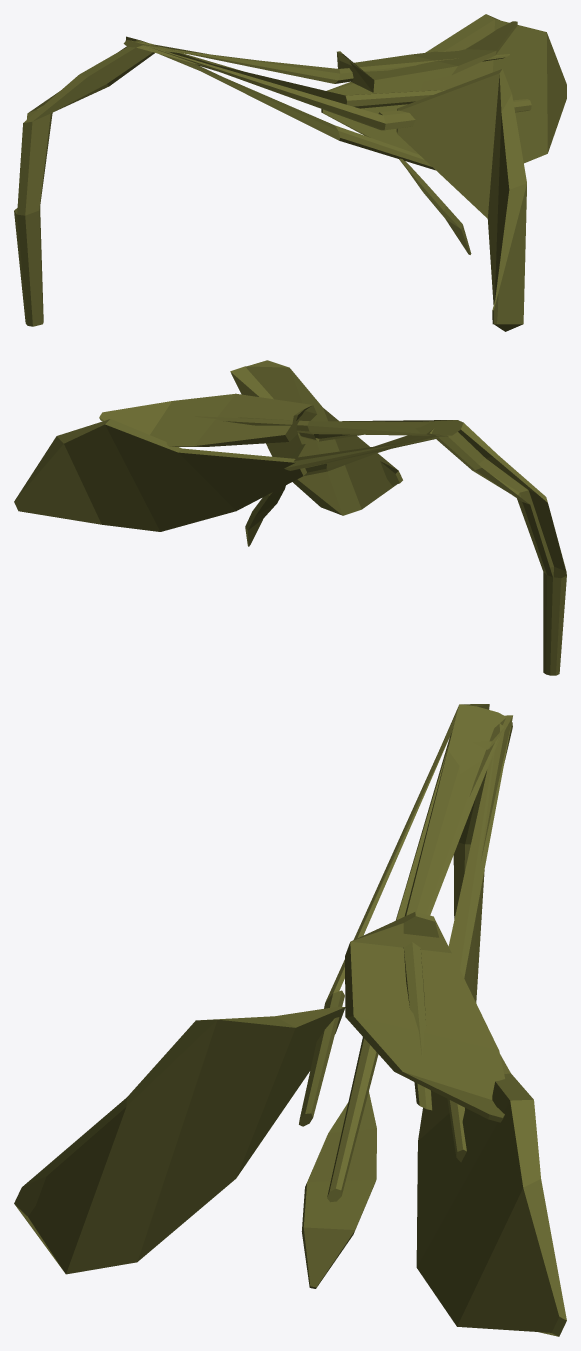
Rendered from dead.fbx.
3 renders of one model, top to bottom at view 1: azimuth 30°, elevation 25°; view 2: azimuth 150°, elevation 25°; view 3: azimuth 270°, elevation 25°, orthographic. The views are drawn at different scales.
Visible parts, largest first — view 1: dead; view 2: dead; view 3: dead.
Boxes of the visible parts, x1,y1,x2,y2 form: dead: (14, 14, 566, 331); dead: (14, 360, 566, 675); dead: (14, 704, 566, 1336).
Bounding box in the file's own units: 73.47 × 30.61 × 39.5.
